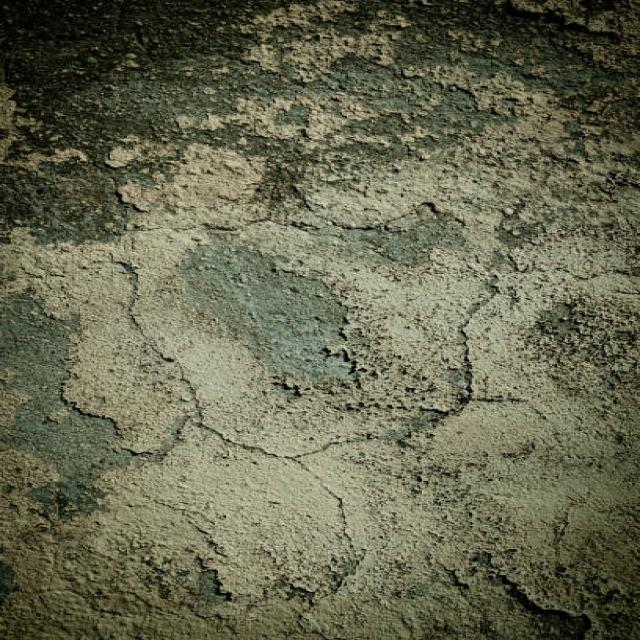Sedimentary: (1, 1, 638, 640)
